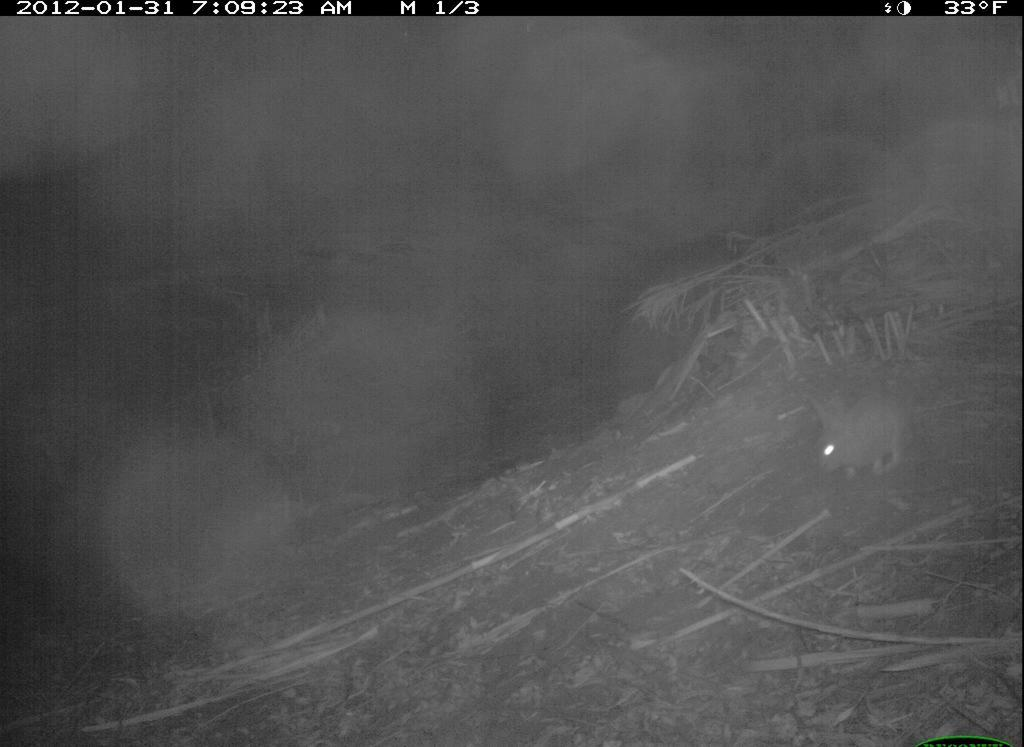rabbit: (797, 379, 922, 489)
